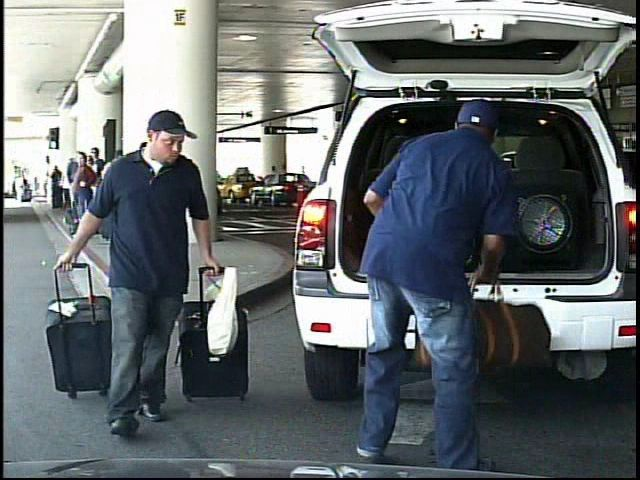person: (341, 96, 527, 476), (77, 109, 236, 436), (277, 162, 288, 198), (14, 171, 25, 202)
